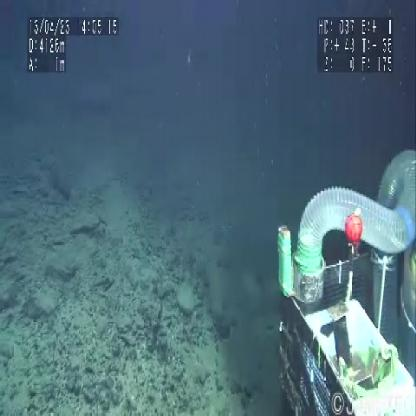Rov: (272, 140, 416, 413)
